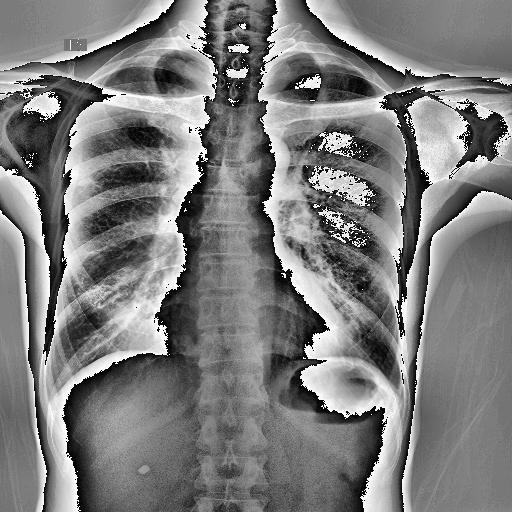11- Pleural thickening: (289, 47, 363, 77), (286, 47, 360, 70), (122, 45, 186, 64), (119, 45, 175, 64), (308, 48, 360, 66)
13- Pulmonary fibrosis: (76, 168, 100, 190), (74, 172, 90, 190)
3- Cardiomegaly: (146, 296, 348, 362), (148, 306, 346, 372)
7- Lung Opacity: (111, 274, 166, 338)
8- Nodule-Mass: (78, 177, 95, 187)
9- Other lesion: (111, 274, 166, 338)
